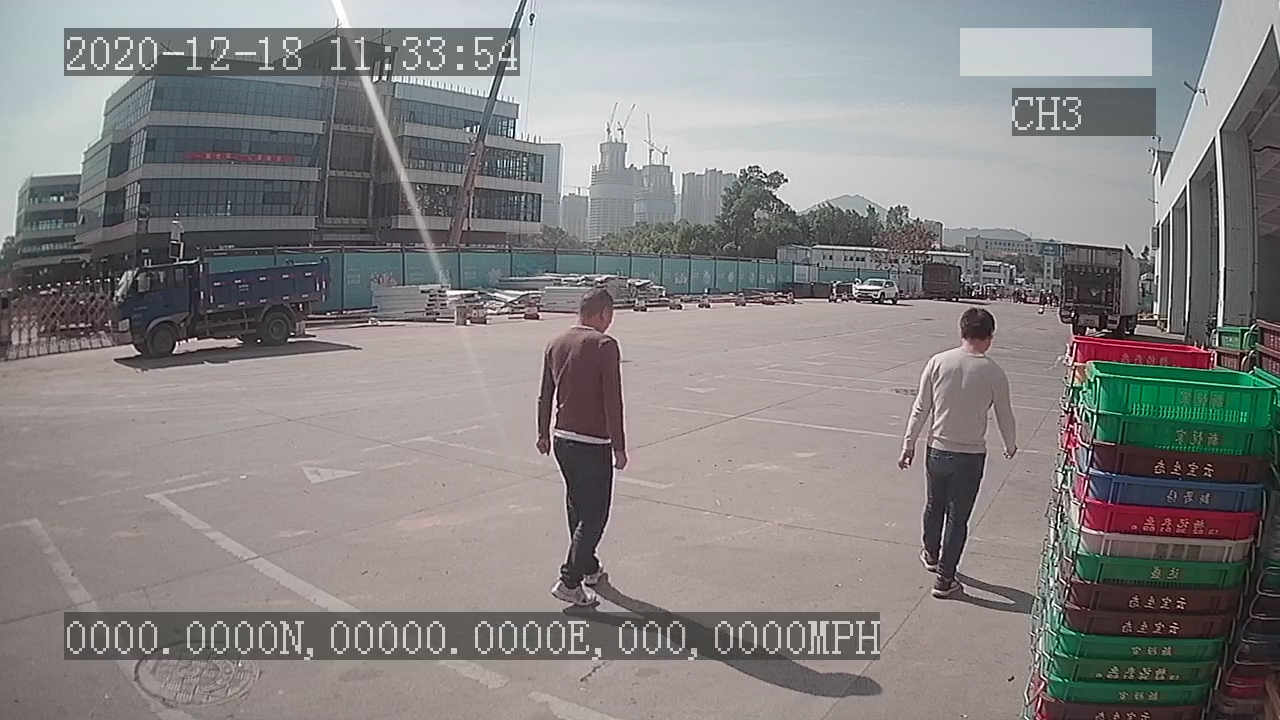person: (892, 305, 1019, 596), (533, 284, 636, 606)
